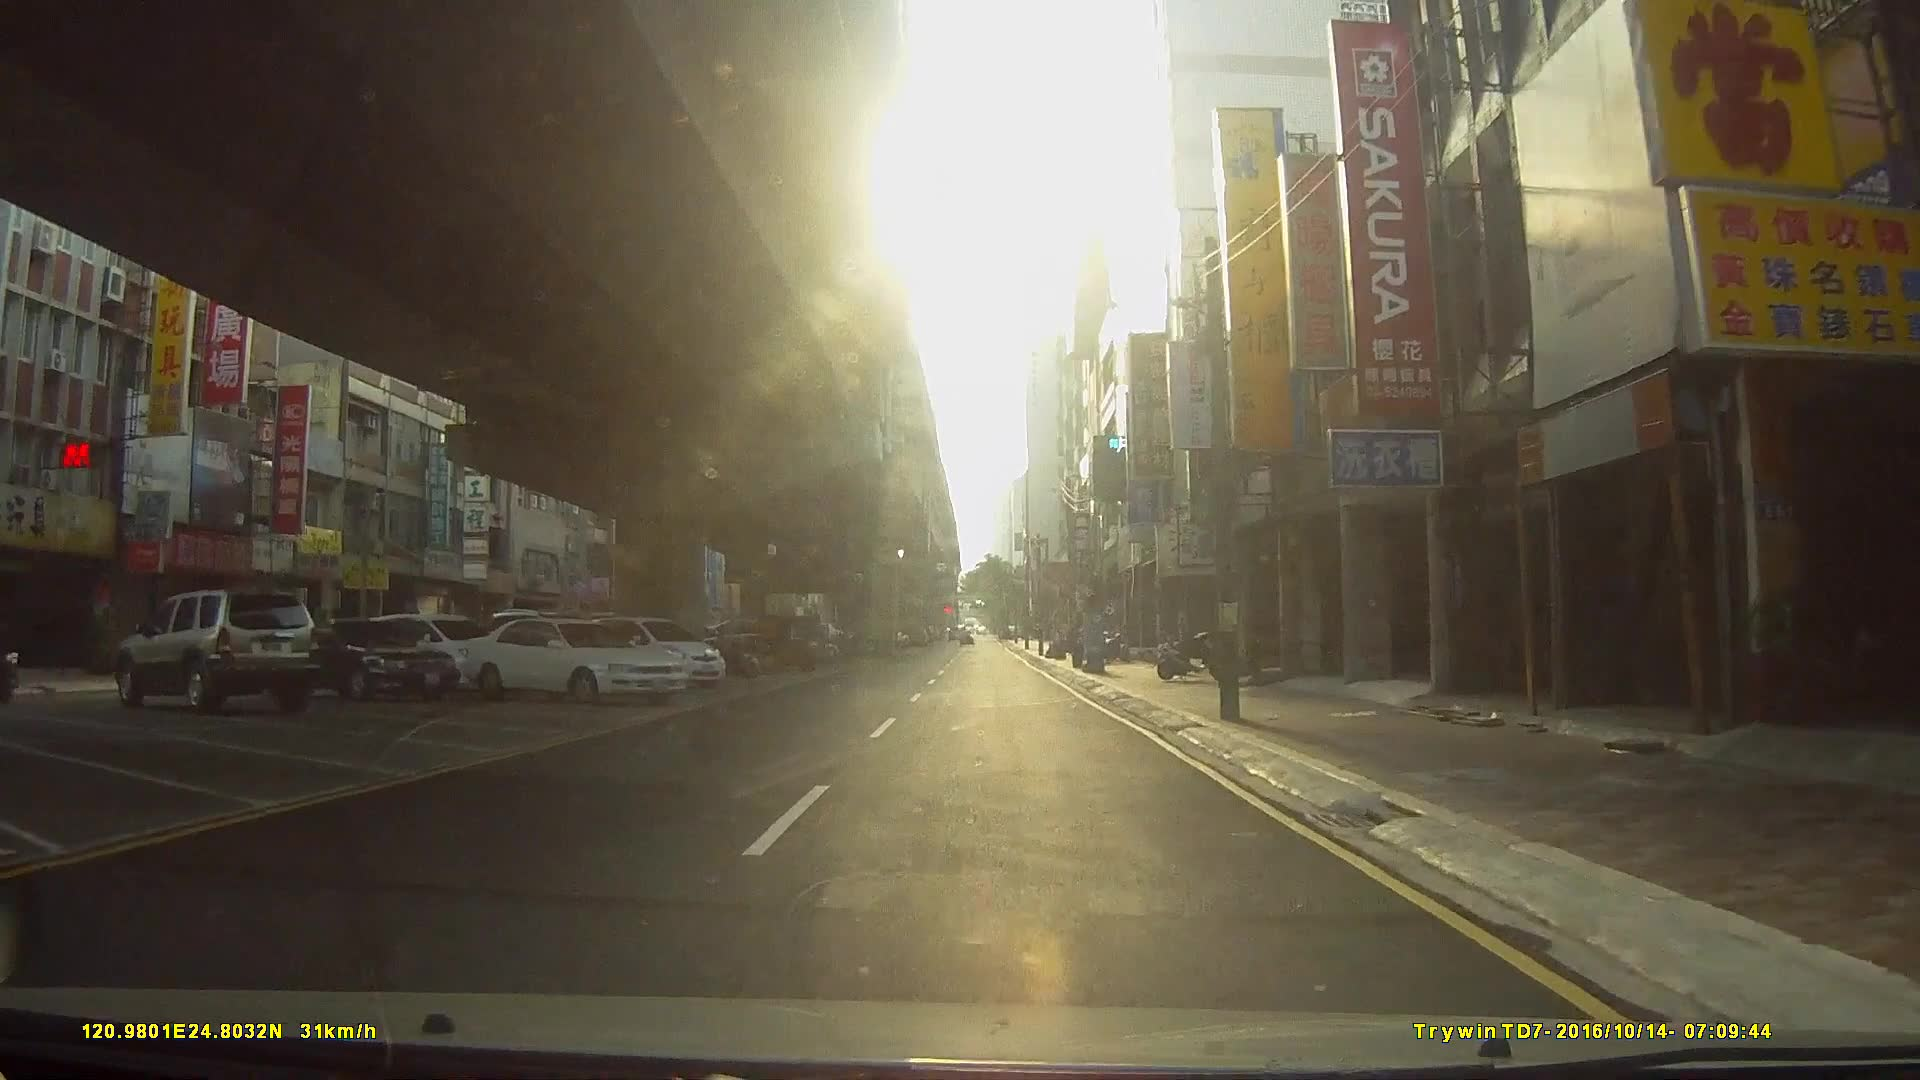rider: (1, 609, 21, 699)
vehicle: (113, 589, 320, 710), (457, 616, 690, 706), (238, 618, 456, 705), (575, 614, 727, 693)
